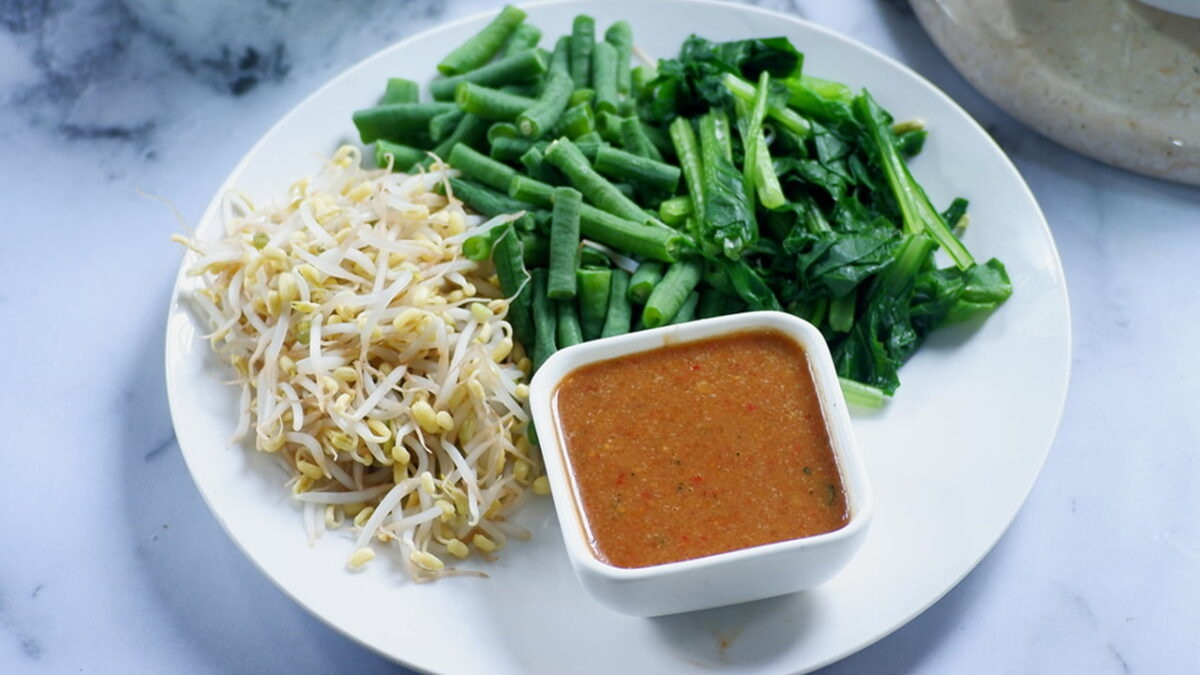pecel: (179, 17, 1019, 630)
